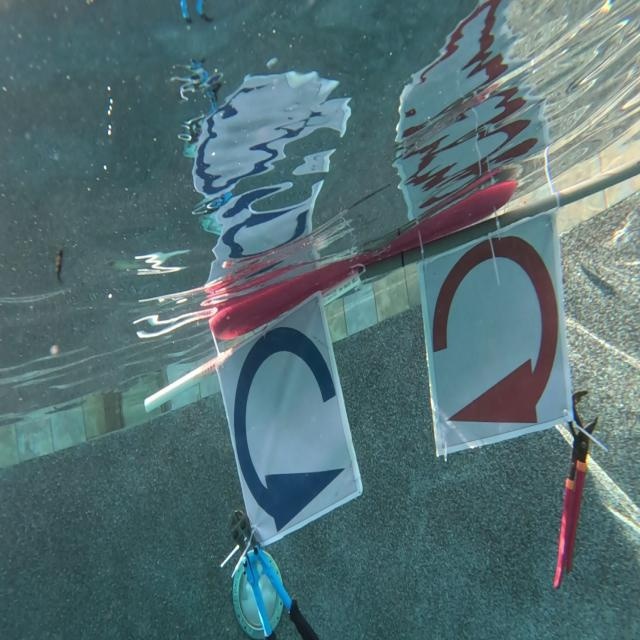blue_side: (215, 288, 372, 543)
red_side: (422, 208, 570, 459)
